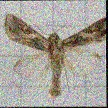Spodoptera litura: (3, 12, 107, 97)
